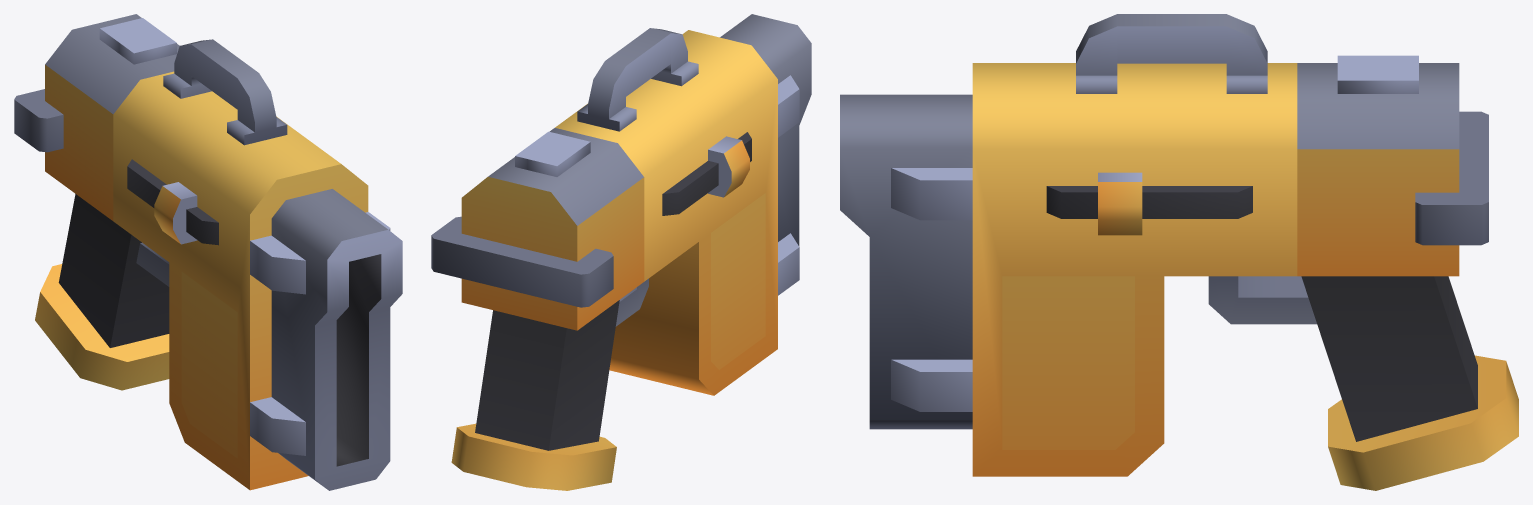
Rendered from weapon_pistol.glb.
3 renders of one model, left to right at view 1: azimuth 30°, elevation 25°; view 2: azimuth 150°, elevation 25°; view 3: azimuth 270°, elevation 25°, orthographic. The views are drawn at different scales.
Visible parts, largest first — view 1: blaster-k; view 2: blaster-k; view 3: blaster-k.
Part boxes in pixels (left/top/right/bottom): blaster-k: left=14, top=14, right=402, bottom=490; blaster-k: left=431, top=14, right=811, bottom=490; blaster-k: left=840, top=14, right=1518, bottom=490.
Size of the model in its own units: 9.43 by 20.3 by 28.
